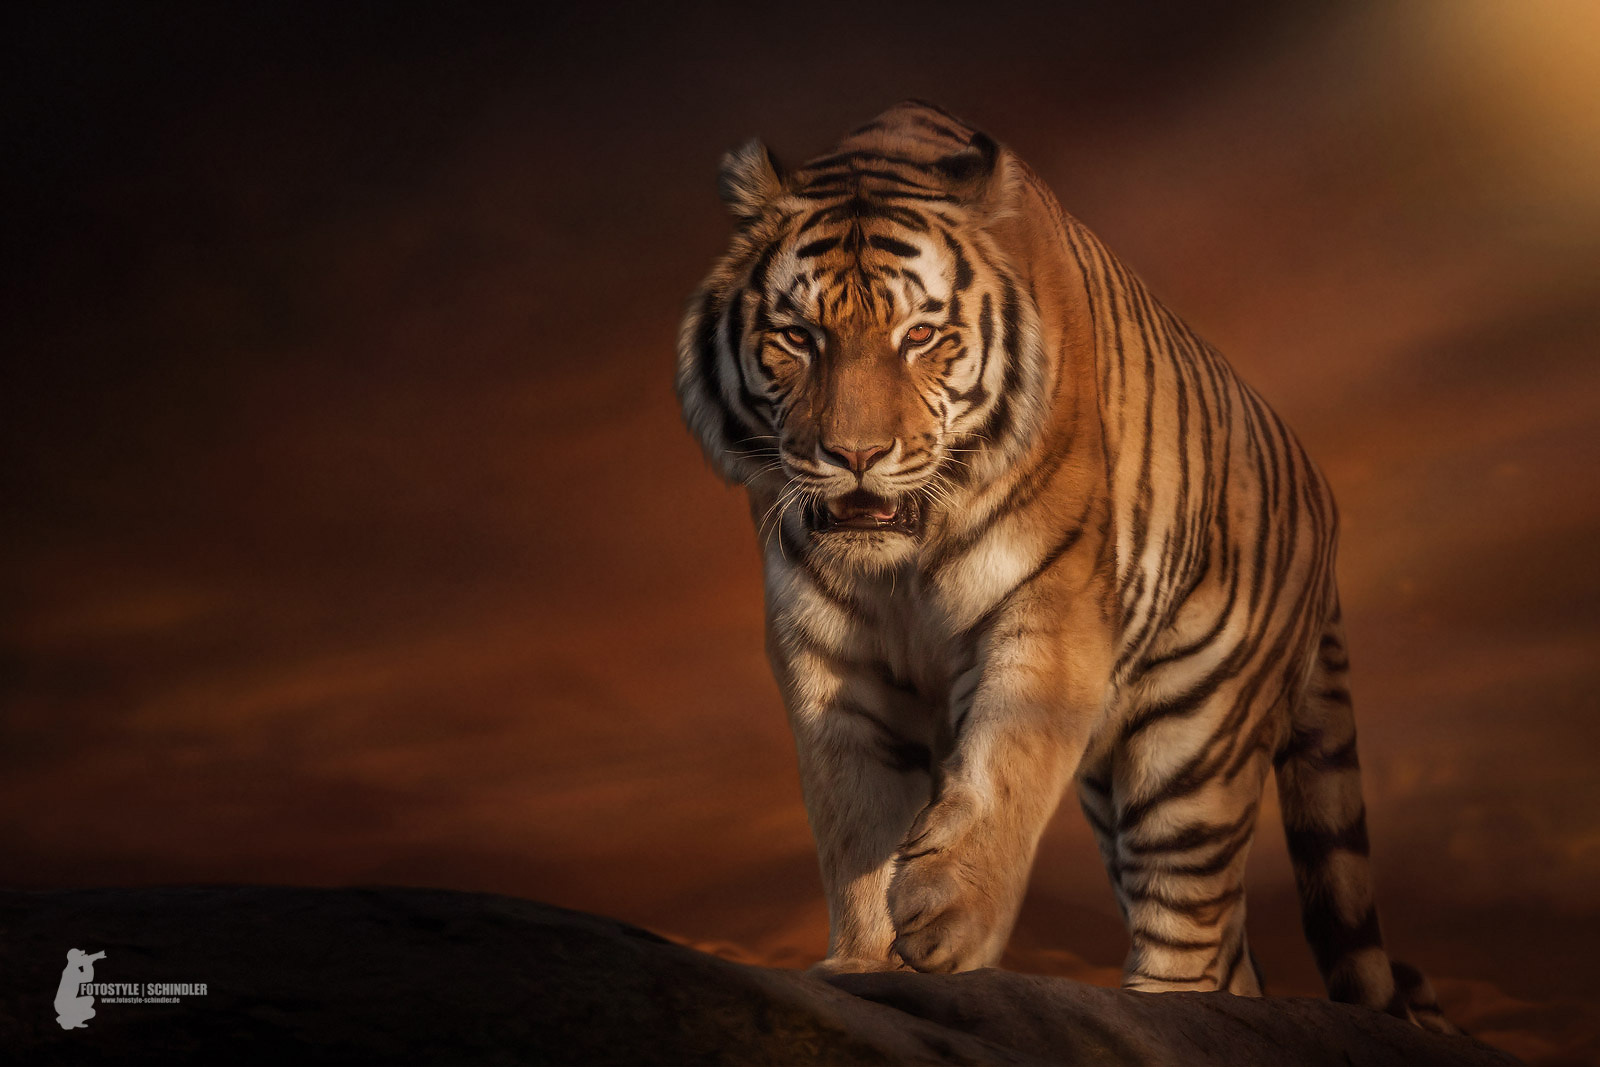tiger: (679, 73, 1433, 1000)
